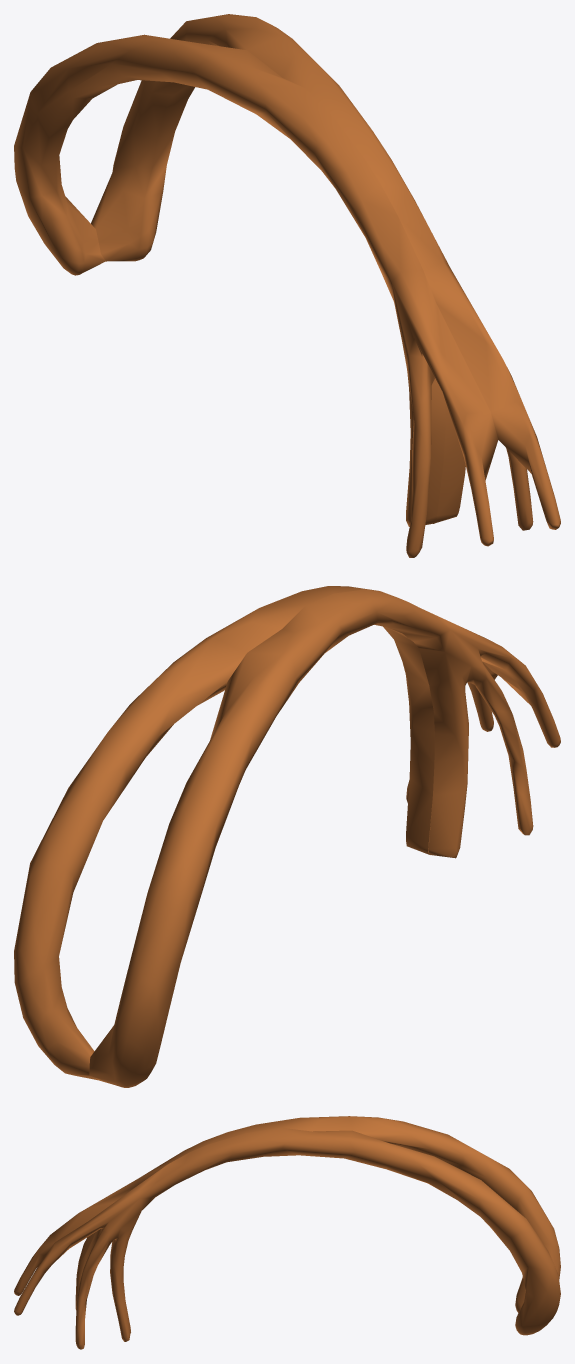
File: Stria_medullaris_thalami_right.glb
3 renders of one model, top to bottom at view 1: azimuth 30°, elevation 25°; view 2: azimuth 150°, elevation 25°; view 3: azimuth 270°, elevation 25°, orthographic. The views are drawn at different scales.
Parts seen in each view (by area): view 1: Stria_medullaris_thalami.r_grp1.038; view 2: Stria_medullaris_thalami.r_grp1.038; view 3: Stria_medullaris_thalami.r_grp1.038.
Boxes of the visible parts, bbox=[...] form: Stria_medullaris_thalami.r_grp1.038: bbox=[14, 14, 560, 557]; Stria_medullaris_thalami.r_grp1.038: bbox=[14, 586, 560, 1087]; Stria_medullaris_thalami.r_grp1.038: bbox=[14, 1116, 560, 1349].
Bounding box in the file's own units: 0.00739 × 0.0151 × 0.0357.
